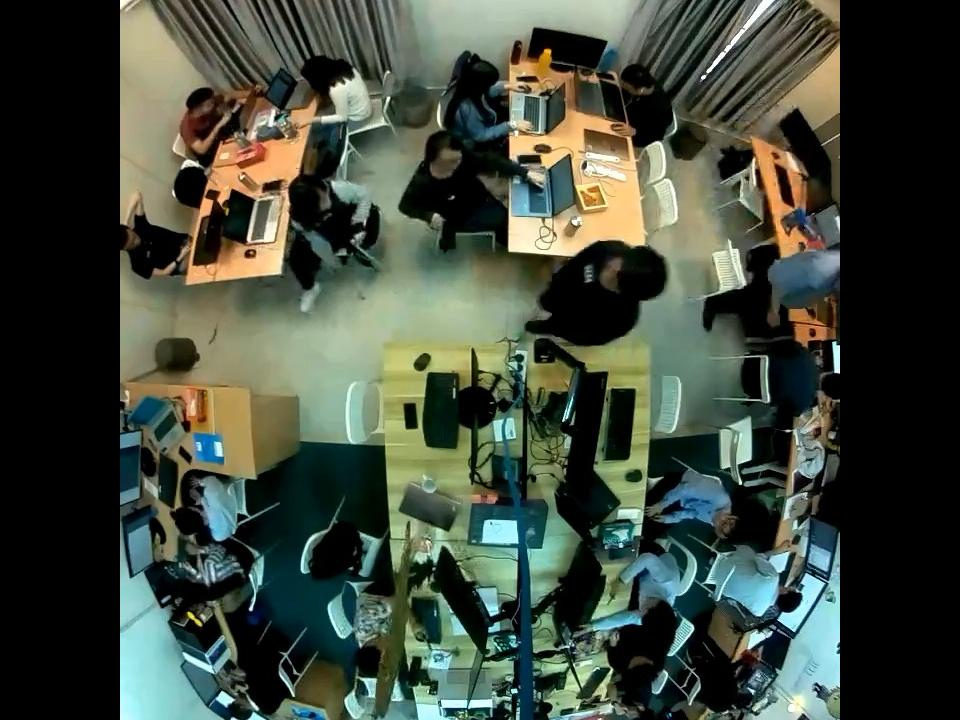name-tag: (581, 262, 594, 282)
